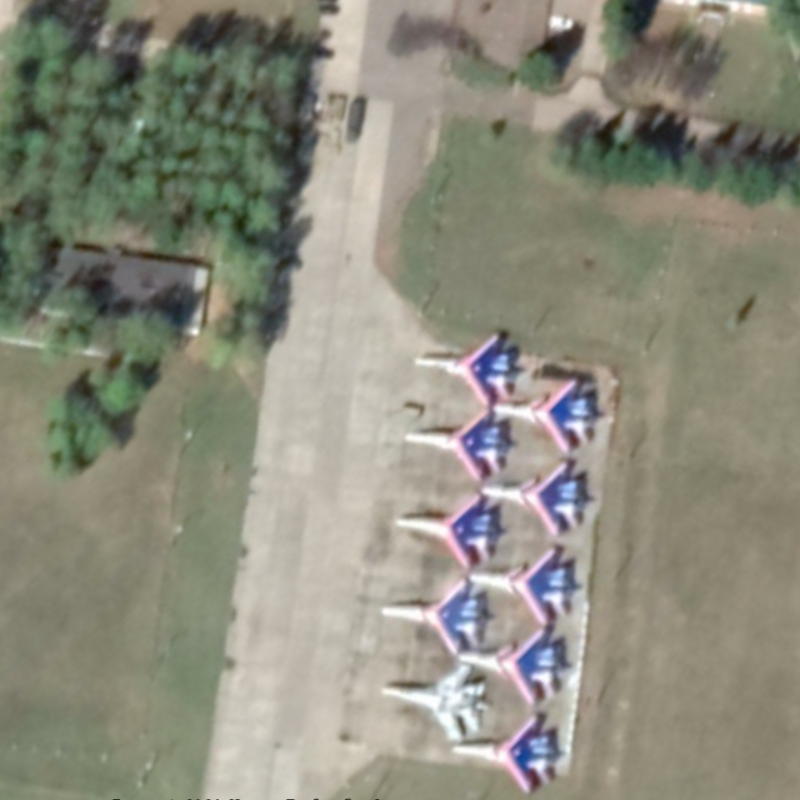A1: (370, 660, 486, 748), (387, 488, 506, 571), (407, 323, 521, 408), (376, 574, 489, 658), (389, 405, 512, 481), (448, 711, 563, 792)
A19: (454, 624, 573, 707), (468, 540, 578, 628), (492, 373, 606, 454), (479, 456, 592, 537)
